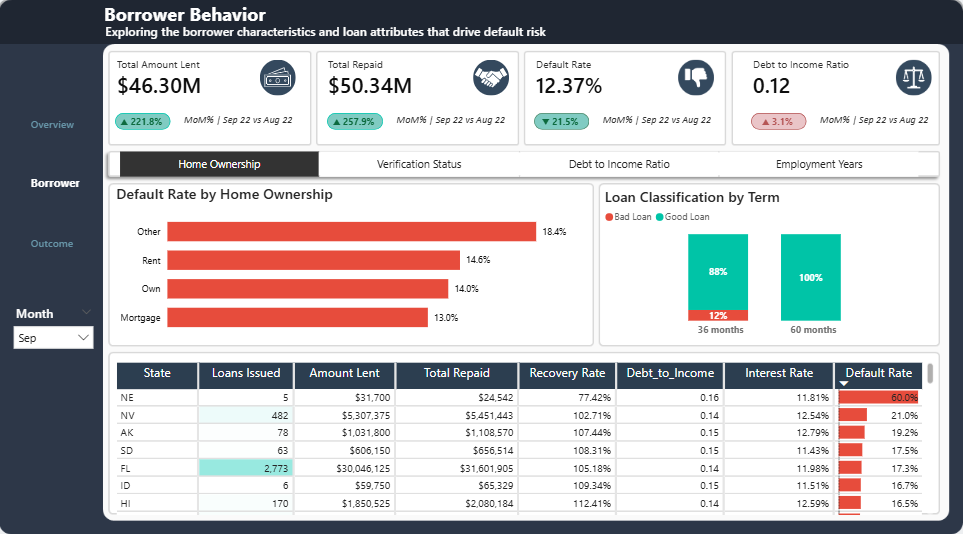

What the dashboard file says about the page in this screenshot:
{"tool":"powerbi","page":{"name":"Borrower","canvas":[1280,720],"ordinal":1},"visuals":[{"type":"group","id":"g1","title":"Group 4","box":[145.4,76.3,268.6,125.3],"z":0,"group":"g2"},{"type":"group","id":"g2","title":"Amount Lent","box":[145.4,76.3,267.8,125.3],"z":0},{"type":"cardVisual","fields":{"Data":["_Measures.Total Amount Lent"]},"box":[145.4,76.3,268.6,125.3],"z":0,"group":"g1"},{"type":"group","id":"g3","title":"Group 4","box":[421.9,76.3,271.5,125.7],"z":0,"group":"g7"},{"type":"cardVisual","fields":{"Data":["_Measures.Total Repaid"]},"box":[421.9,76.3,271.3,125.3],"z":0,"group":"g3"},{"type":"cardVisual","fields":{"Data":["_Measure.Default Rate"]},"box":[694.1,76.3,267.2,125.3],"z":0,"group":"g4"},{"type":"group","id":"g4","title":"Group 4","box":[694.1,76.3,267.5,125.7],"z":0,"group":"g6"},{"type":"group","id":"g5","title":"Group 4","box":[977.8,76.3,268.6,125.3],"z":0,"group":"g12"},{"type":"cardVisual","fields":{"Data":["_Measure.Avg DTI"]},"box":[977.8,76.3,268.6,125.3],"z":0,"group":"g5"},{"type":"shape","box":[160.8,156.3,72.8,21.9],"z":0,"group":"g8"},{"type":"shape","box":[437.5,156.3,73.5,21.9],"z":0,"group":"g9"},{"type":"shape","box":[709.4,156.3,72.4,21.9],"z":0,"group":"g10"},{"type":"shape","box":[993.2,156.3,72.8,21.9],"z":0,"group":"g11"},{"type":"group","id":"g6","title":"Default Rate","box":[694.1,76.3,267.8,125.3],"z":1000},{"type":"card","fields":{"Values":["_Measure.Variance Period MoM"]},"box":[246.7,152.3,149.8,29.9],"z":1000,"group":"g1"},{"type":"card","fields":{"Values":["_Measure.Variance Period MoM"]},"box":[524.2,152.3,151.3,29.9],"z":1000,"group":"g3"},{"type":"card","fields":{"Values":["_Measure.Variance Period MoM"]},"box":[794.9,152.3,149,29.9],"z":1000,"group":"g4"},{"type":"card","fields":{"Values":["_Measure.Variance Period MoM"]},"box":[1079.1,152.3,149.8,29.9],"z":1000,"group":"g5"},{"type":"card","fields":{"Values":["_Measure.Amount Lent MoM% Text"]},"box":[159.1,156.3,71.5,26.5],"z":1000,"group":"g8"},{"type":"card","fields":{"Values":["_Measure.Amount Repaid MoM% Text"]},"box":[435.7,156.3,72.2,26.5],"z":1000,"group":"g9"},{"type":"card","fields":{"Values":["_Measure.Default Rate MoM% Text"]},"box":[707.7,156.3,71.2,26.5],"z":1000,"group":"g10"},{"type":"card","fields":{"Values":["_Measure.DTI MoM% Text"]},"box":[991.5,156.3,71.5,26.5],"z":1000,"group":"g11"},{"type":"group","id":"g7","title":"Total Repaid","box":[421.9,76.3,270.7,125.3],"z":2000},{"type":"group","id":"g8","title":"Group 1","box":[159.1,156.3,74,26.5],"z":2000,"group":"g1"},{"type":"group","id":"g9","title":"Group 1","box":[435.7,156.3,74.7,26.5],"z":2000,"group":"g3"},{"type":"group","id":"g10","title":"Group 1","box":[707.7,156.3,73.6,26.5],"z":2000,"group":"g4"},{"type":"group","id":"g11","title":"Group 1","box":[991.5,156.3,74,26.5],"z":2000,"group":"g5"},{"type":"barChart","fields":{"Category":["Loan_Data.home_ownership"],"Y":["_Measures.Bad Loans %"]},"box":[145.3,234.3,621.8,234.3],"z":4000},{"type":"hundredPercentStackedColumnChart","title":"Loan Classification by Term","fields":{"Category":["Loan_Data.loan_term_months"],"Series":["Loan_Data.Loan Classification"],"Y":["_Measures.Total Loans Issued"]},"box":[796,247,434.9,210.2],"z":5000},{"type":"tableEx","title":"Loan Performance by State","fields":{"Values":["Loan_Data.state","_Measures.Total Loans Issued","_Measures.Total Amount Lent","_Measures.Total Repaid","_Measures.Recovery Rate","_Measures.Avg DTI","_Measures.Avg Interest Rate","_Measures.Bad Loans %"]},"box":[145.4,468,1101.6,229],"z":6000},{"type":"group","id":"g12","title":"DTI","box":[977.8,76.3,267.8,125.3],"z":7000},{"type":"slicer","fields":{"Values":["Parameter.Parameter"]},"box":[145.3,204,1085.2,37],"z":8000},{"type":"pageNavigator","box":[14.3,139.8,131.3,214],"z":9000},{"type":"textbox","box":[145.3,9.2,445.1,35.3],"z":10000},{"type":"textbox","box":[143,38,610,20.9],"z":11000},{"type":"slicer","fields":{"Values":["Dim_Date.Month Short"]},"box":[22.8,406.7,114.2,61.4],"z":12000}]}

Visuals, with their boxes on the page's 1280x720 design canvas (x1, y1, x2, y2). These are canvas units, not pixel positions in the 963x534 screenshot, which may show the page scaled, cropped or inside an application window:
"Group 4" group: 145 76 414 202
"Amount Lent" group: 145 76 413 202
cardVisual - _Measures.Total Amount Lent: 145 76 414 202
"Group 4" group: 422 76 693 202
cardVisual - _Measures.Total Repaid: 422 76 693 202
cardVisual - _Measure.Default Rate: 694 76 961 202
"Group 4" group: 694 76 962 202
"Group 4" group: 978 76 1246 202
cardVisual - _Measure.Avg DTI: 978 76 1246 202
shape: 161 156 234 178
shape: 438 156 511 178
shape: 709 156 782 178
shape: 993 156 1066 178
"Default Rate" group: 694 76 962 202
card - _Measure.Variance Period MoM: 247 152 396 182
card - _Measure.Variance Period MoM: 524 152 676 182
card - _Measure.Variance Period MoM: 795 152 944 182
card - _Measure.Variance Period MoM: 1079 152 1229 182
card - _Measure.Amount Lent MoM% Text: 159 156 231 183
card - _Measure.Amount Repaid MoM% Text: 436 156 508 183
card - _Measure.Default Rate MoM% Text: 708 156 779 183
card - _Measure.DTI MoM% Text: 992 156 1063 183
"Total Repaid" group: 422 76 693 202
"Group 1" group: 159 156 233 183
"Group 1" group: 436 156 510 183
"Group 1" group: 708 156 781 183
"Group 1" group: 992 156 1066 183
barChart - Loan_Data.home_ownership x _Measures.Bad Loans %: 145 234 767 469
"Loan Classification by Term" hundredPercentStackedColumnChart: 796 247 1231 457
"Loan Performance by State" tableEx: 145 468 1247 697
"DTI" group: 978 76 1246 202
slicer - Parameter.Parameter: 145 204 1230 241
pageNavigator: 14 140 146 354
textbox: 145 9 590 44
textbox: 143 38 753 59
slicer - Dim_Date.Month Short: 23 407 137 468
